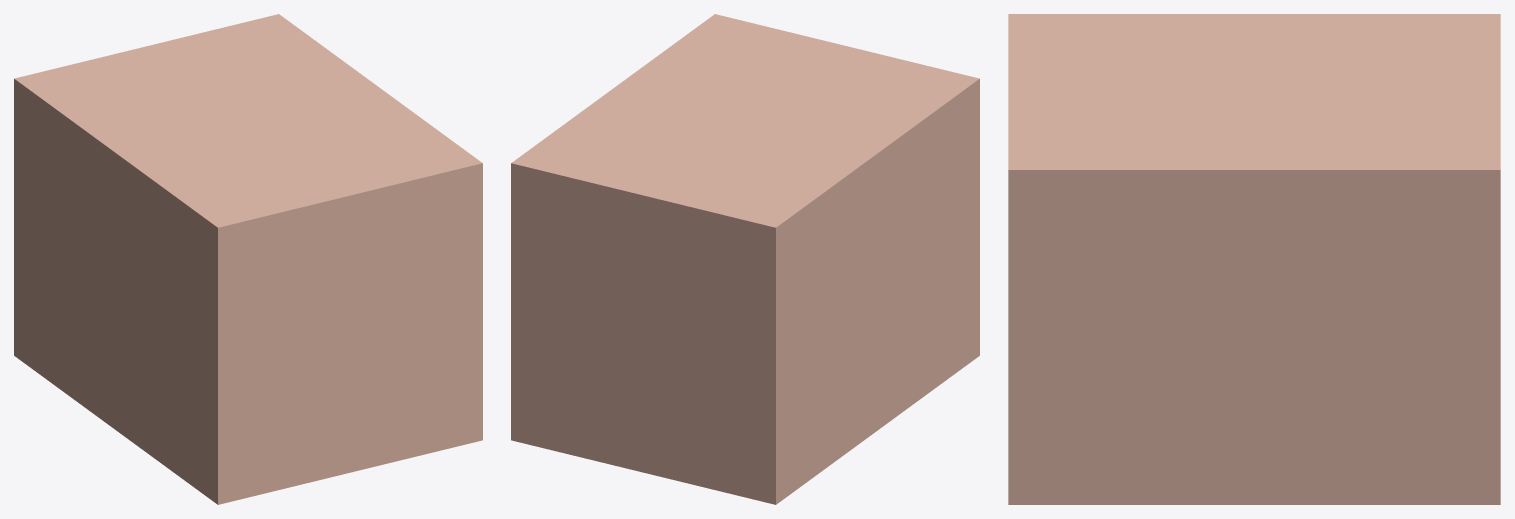
The model's file is Robot model hoofd test.fbx.
3 views of the same model, side by side, from view 1: azimuth 30°, elevation 25°; view 2: azimuth 150°, elevation 25°; view 3: azimuth 270°, elevation 25° (orthographic). The views are drawn at different scales.
Visible parts, largest first — view 1: Head.001; view 2: Head.001; view 3: Head.001.
Part boxes in pixels (bbox=[...]): Head.001: bbox=[14, 14, 482, 504]; Head.001: bbox=[511, 14, 979, 504]; Head.001: bbox=[1008, 14, 1500, 504].
Size of the model in its own units: 3 by 3 by 4.
